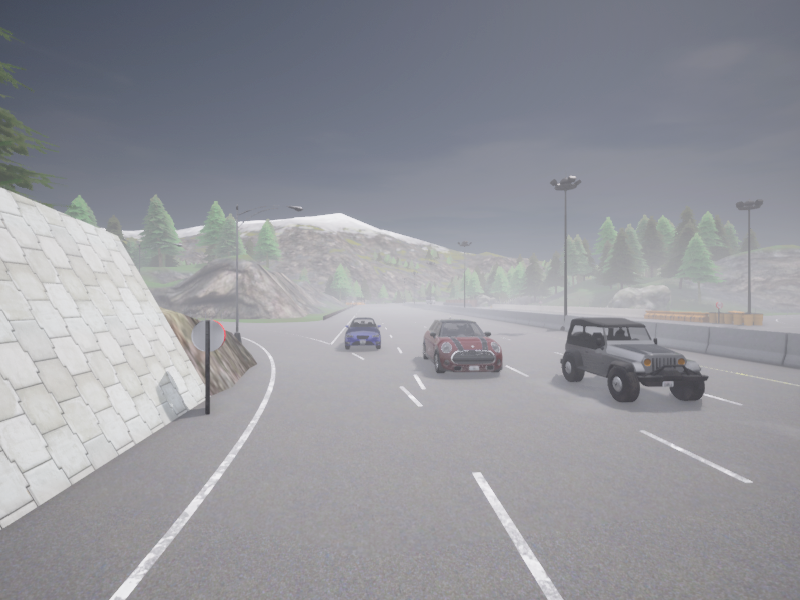vehicle: (560, 318, 708, 402), (422, 318, 502, 372), (344, 317, 380, 349), (426, 297, 435, 303)
